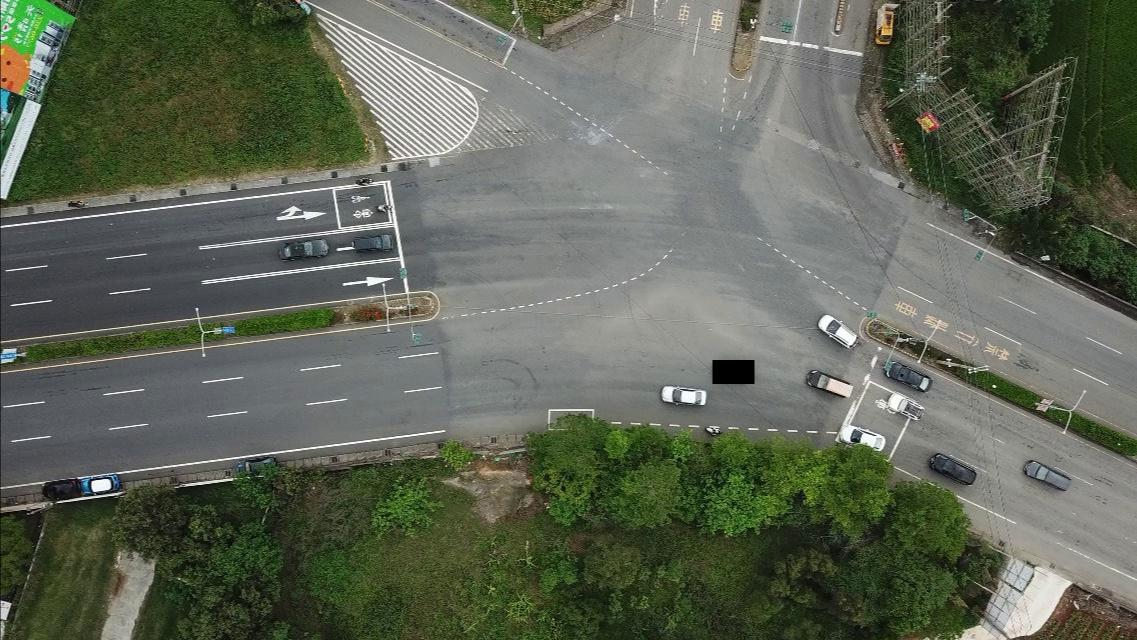vehicle: (930, 452, 976, 487), (814, 313, 857, 350), (884, 361, 931, 394), (806, 367, 853, 400), (1024, 461, 1070, 492), (838, 423, 886, 452), (277, 238, 329, 262), (885, 393, 924, 422), (662, 384, 707, 407), (232, 454, 276, 476), (39, 479, 80, 501), (78, 474, 120, 495), (351, 234, 393, 254), (874, 7, 894, 45)
